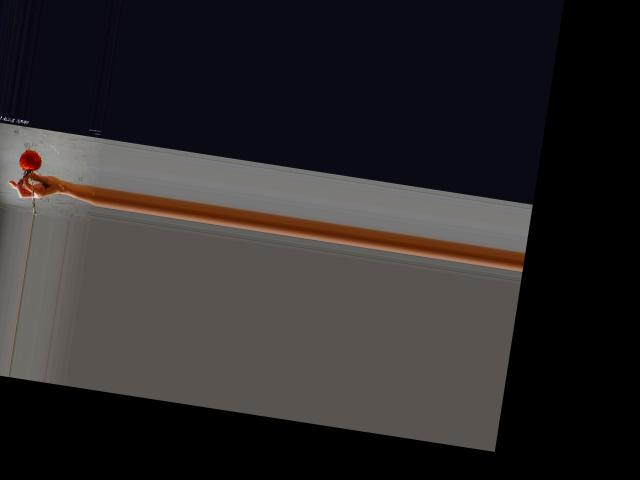tomato: (19, 148, 44, 172)
